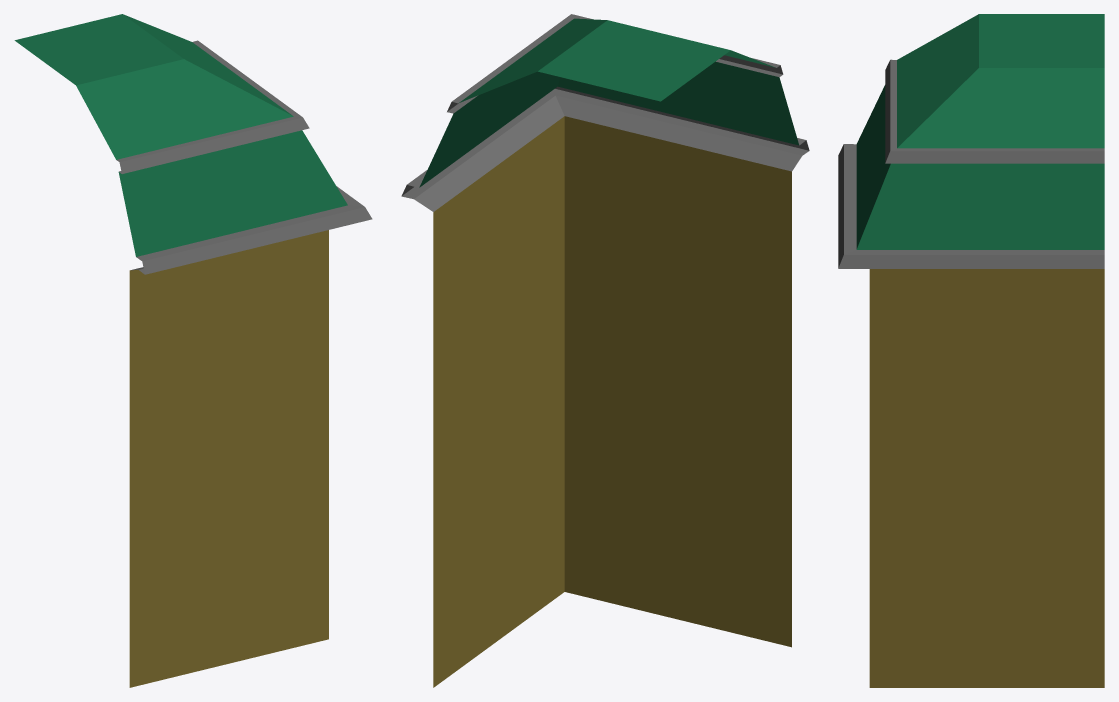
File: outercorner.fbx
3 views of the same model, side by side, from view 1: azimuth 30°, elevation 25°; view 2: azimuth 150°, elevation 25°; view 3: azimuth 270°, elevation 25° (orthographic). The views are drawn at different scales.
Parts seen in each view (by area): view 1: OuterCorner; view 2: OuterCorner; view 3: OuterCorner.
Boxes of the visible parts, left/top/right/bottom form: OuterCorner: left=14, top=14, right=372, bottom=687; OuterCorner: left=401, top=14, right=809, bottom=687; OuterCorner: left=838, top=14, right=1104, bottom=687.
Bounding box in the file's own units: 114 × 270 × 113.
